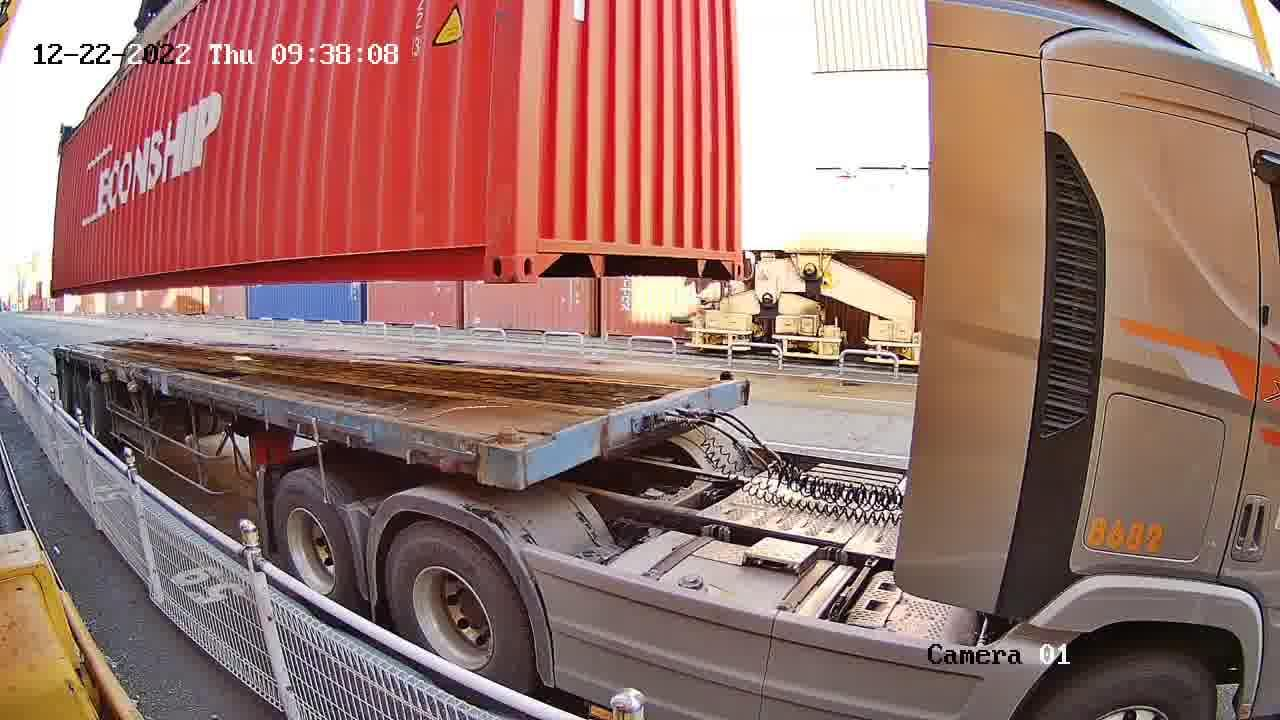Chassis: (475, 375, 743, 493)
Cone: (486, 426, 527, 491), (715, 367, 739, 387)
Hole_L: (515, 221, 575, 283)
Hole_R: (454, 225, 517, 282), (705, 235, 744, 280)
Tire: (386, 526, 526, 711), (274, 480, 351, 619)
